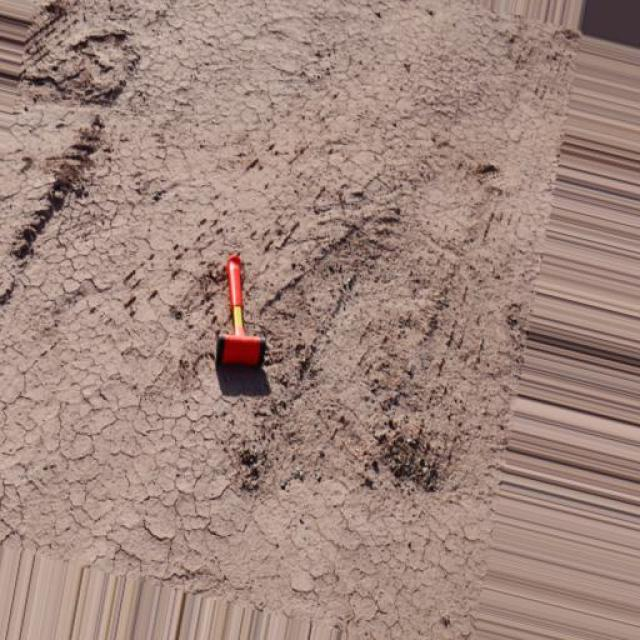mallet: (214, 252, 265, 368)
